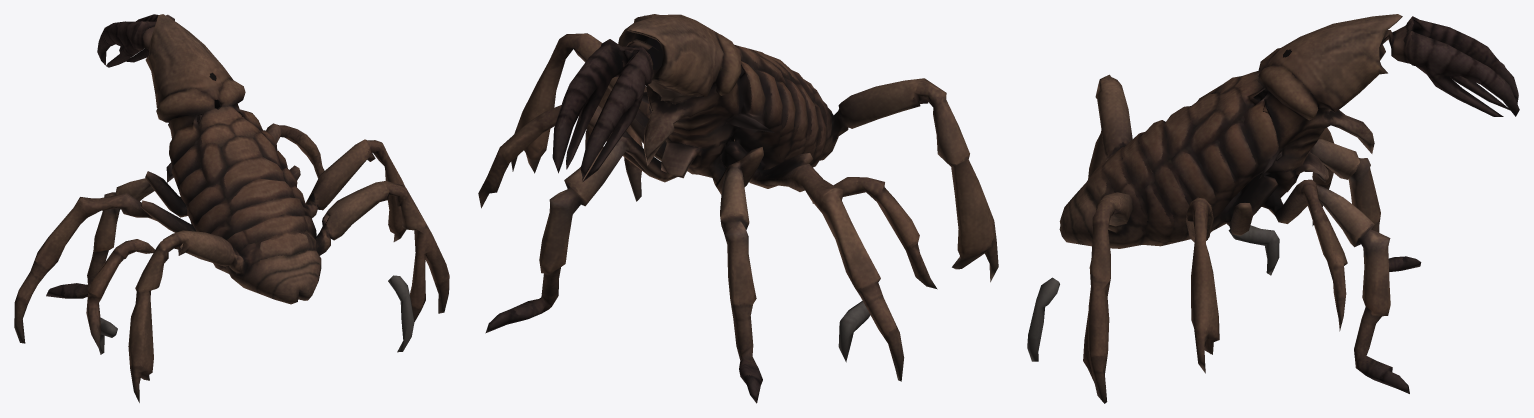
Rendered from scorpion.glb.
The picture shows the model from 3 angles, left to right: view 1: azimuth 30°, elevation 25°; view 2: azimuth 150°, elevation 25°; view 3: azimuth 270°, elevation 25°; orthographic projection. The views are drawn at different scales.
Visible parts, largest first — view 1: geometry_0; view 2: geometry_0; view 3: geometry_0.
Part boxes in pixels (left/top/right/bottom): geometry_0: left=14, top=14, right=449, bottom=402; geometry_0: left=478, top=14, right=998, bottom=403; geometry_0: left=1027, top=14, right=1519, bottom=403.
Size of the model in its own units: 0.9968 by 0.7277 by 0.9952.
Materials: 1 (1 with a texture image).
